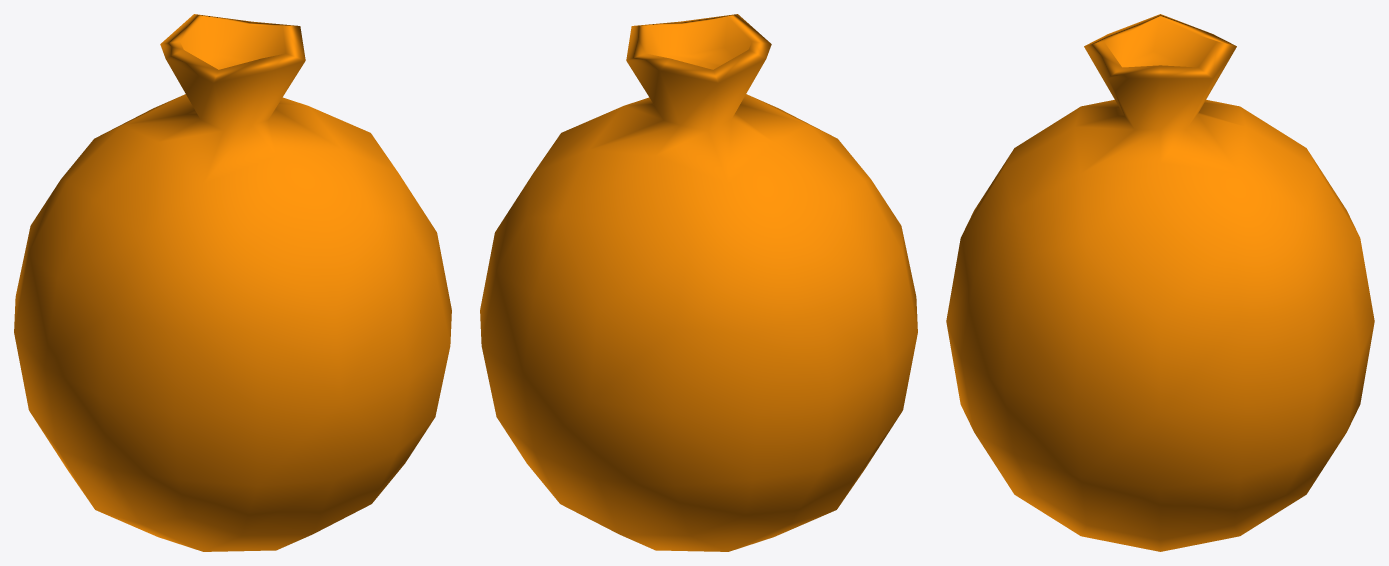
File: Water Balloon.glb
The picture shows the model from 3 angles, left to right: view 1: azimuth 30°, elevation 25°; view 2: azimuth 150°, elevation 25°; view 3: azimuth 270°, elevation 25°; orthographic projection.
Visible parts, largest first — view 1: water ballon; view 2: water ballon; view 3: water ballon.
Boxes of the visible parts, bbox=[...] form: water ballon: bbox=[14, 14, 451, 551]; water ballon: bbox=[480, 14, 917, 551]; water ballon: bbox=[946, 14, 1374, 551].
Bounding box in the file's own units: 1.76 × 2.21 × 1.76.
1 material, 1 textured.
